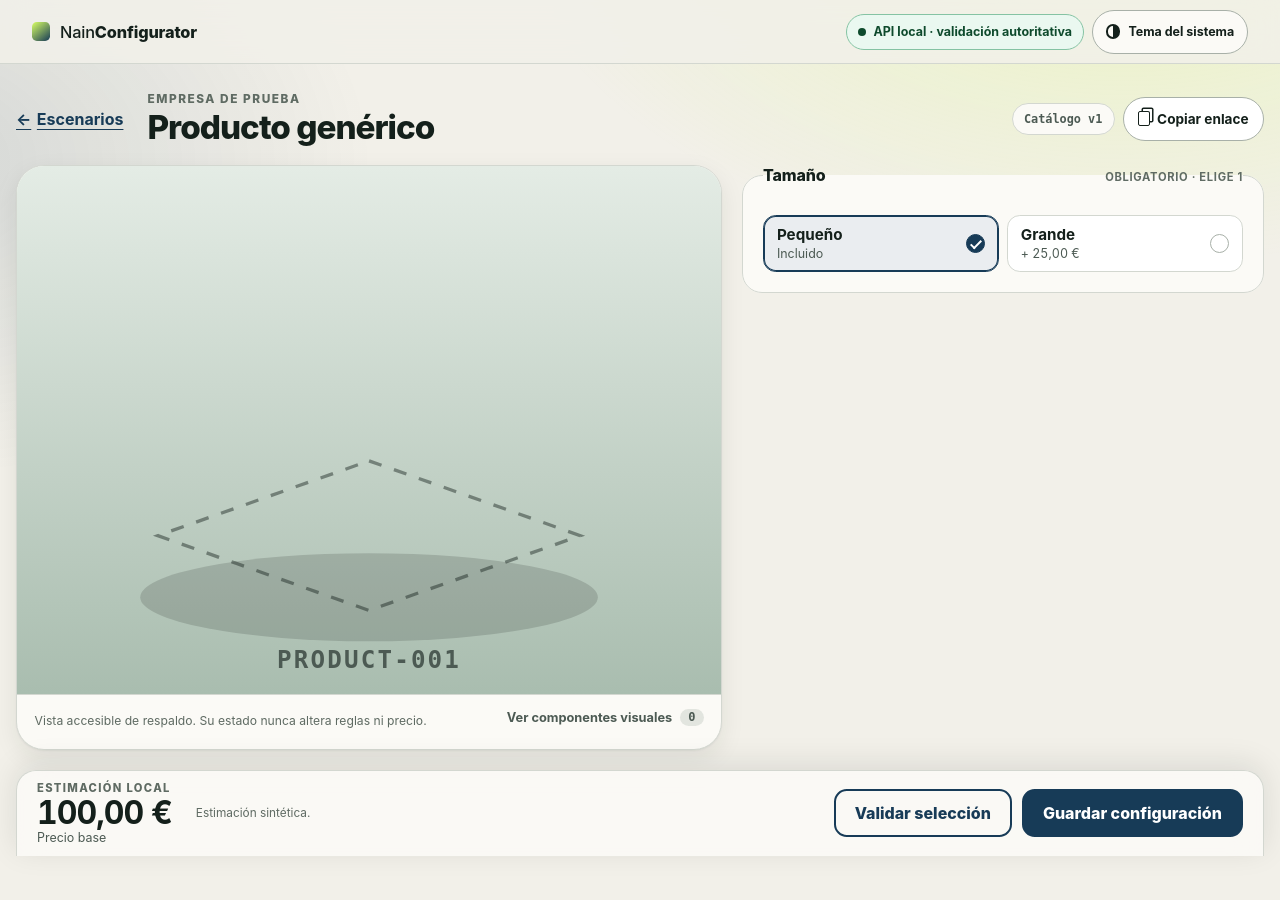
Test: catalog-driven application shell › creates controls and draft price only from catalog data
The width and height of the screenshot is (1280, 900).
Expected: the heading "Producto genérico" is shown, left=147, top=107, right=434, bottom=147
Expected: the radio button labelled "Pequeño Incluido" is checked, left=763, top=215, right=999, bottom=272
Step 1. Click the radio button labelled "Grande + 25,00 €" → (1125, 244), box left=1007, top=215, right=1243, bottom=272
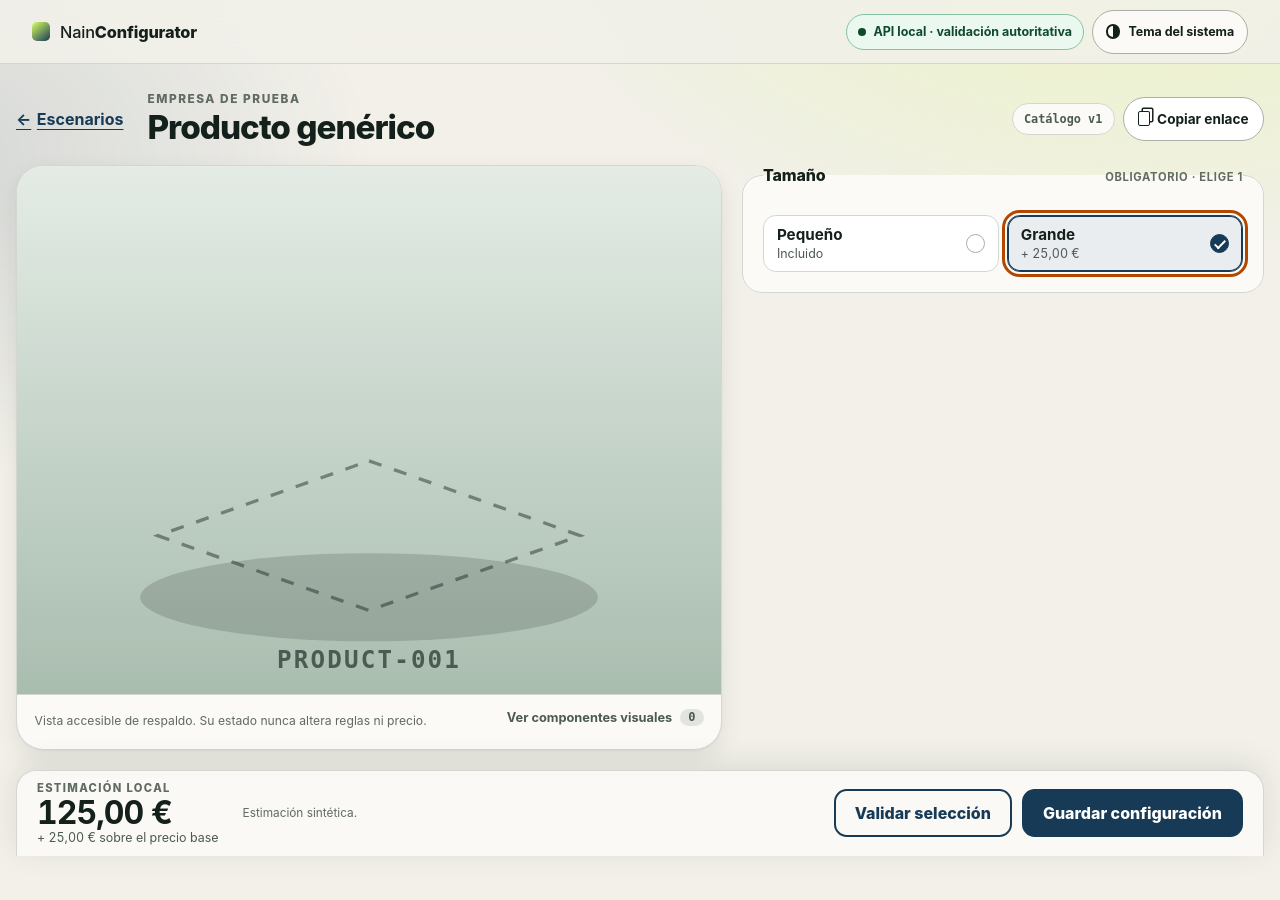
Now the radio button labelled "Grande + 25,00 €" is checked, box left=1007, top=215, right=1243, bottom=272
Now the text "125,00 €" is shown, box left=37, top=793, right=172, bottom=832
